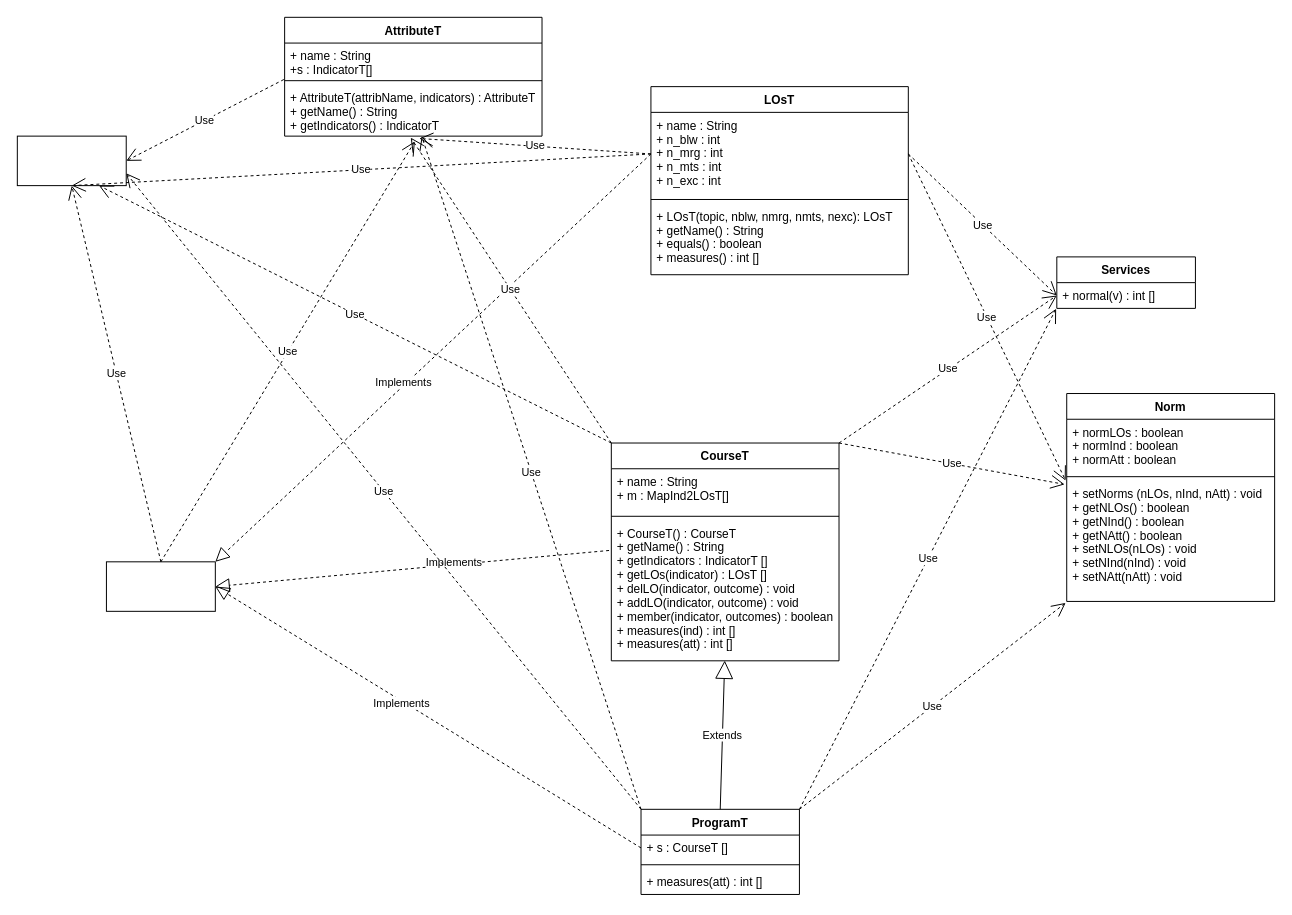
The diagram is 1292 pixels wide and 915 high, and some of its shapes have lost their labels. Here are the shapes that lost their labels. From the top down, the centre of each, then its label:
(x=71, y=160): «enumeration» IndicatorT
(x=160, y=586): «interface» Measures
